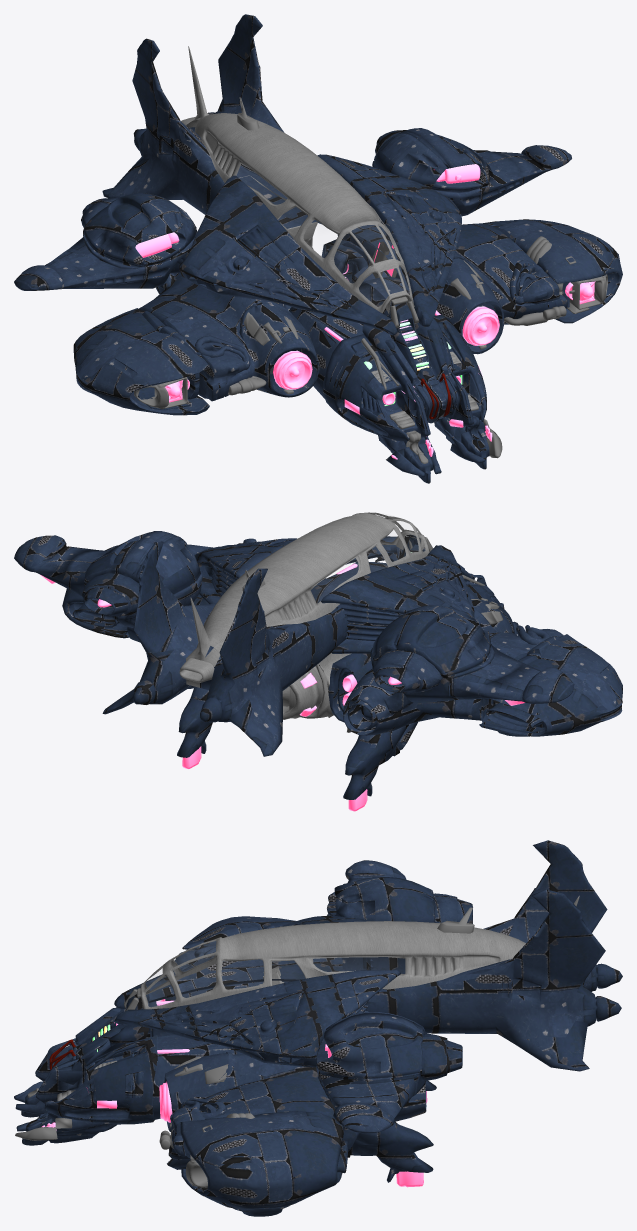
3 views of the same model, one above another, from view 1: azimuth 30°, elevation 25°; view 2: azimuth 150°, elevation 25°; view 3: azimuth 270°, elevation 25° (orthographic). The views are drawn at different scales.
Parts seen in each view (by area): view 1: Alien Spaceship part_006, Alien Spaceship part_019, Alien Spaceship part_045, Alien Spaceship part_084, Alien Spaceship part_027, Alien Spaceship part_067, Alien Spaceship part_060, Alien Spaceship part_024, Alien Spaceship part_095, Alien Spaceship part_062, Alien Spaceship part_004, Alien Spaceship part_112 (+9 smaller); view 2: Alien Spaceship part_027, Alien Spaceship part_095, Alien Spaceship part_045, Alien Spaceship part_062, Alien Spaceship part_060, Alien Spaceship part_019, Alien Spaceship part_112, Alien Spaceship part_084, Alien Spaceship part_067, Alien Spaceship part_033, Alien Spaceship part_063, Alien Spaceship part_004 (+5 smaller); view 3: Alien Spaceship part_112, Alien Spaceship part_045, Alien Spaceship part_004, Alien Spaceship part_067, Alien Spaceship part_006, Alien Spaceship part_062, Alien Spaceship part_024, Alien Spaceship part_095, Alien Spaceship part_027, Alien Spaceship part_019, Alien Spaceship part_086, Alien Spaceship part_016 (+4 smaller).
Boxes of the visible parts, bbox=[...] form: Alien Spaceship part_006: bbox=[323, 301, 489, 483]; Alien Spaceship part_019: bbox=[179, 175, 397, 335]; Alien Spaceship part_045: bbox=[186, 46, 414, 314]; Alien Spaceship part_084: bbox=[138, 272, 319, 401]; Alien Spaceship part_027: bbox=[14, 193, 197, 290]; Alien Spaceship part_067: bbox=[317, 154, 461, 326]; Alien Spaceship part_060: bbox=[73, 308, 209, 415]; Alien Spaceship part_024: bbox=[337, 223, 568, 354]; Alien Spaceship part_095: bbox=[102, 38, 224, 214]; Alien Spaceship part_062: bbox=[372, 128, 571, 216]; Alien Spaceship part_004: bbox=[483, 219, 622, 323]; Alien Spaceship part_112: bbox=[208, 14, 321, 228]; Alien Spaceship part_027: bbox=[370, 605, 574, 703]; Alien Spaceship part_095: bbox=[200, 568, 348, 756]; Alien Spaceship part_045: bbox=[186, 512, 429, 687]; Alien Spaceship part_062: bbox=[14, 531, 202, 627]; Alien Spaceship part_060: bbox=[479, 634, 622, 736]; Alien Spaceship part_019: bbox=[321, 545, 474, 653]; Alien Spaceship part_112: bbox=[102, 541, 289, 714]; Alien Spaceship part_084: bbox=[343, 600, 563, 735]; Alien Spaceship part_067: bbox=[194, 536, 397, 604]; Alien Spaceship part_033: bbox=[343, 722, 417, 799]; Alien Spaceship part_063: bbox=[282, 624, 351, 719]; Alien Spaceship part_004: bbox=[62, 544, 212, 638]; Alien Spaceship part_112: bbox=[365, 889, 621, 1071]; Alien Spaceship part_045: bbox=[140, 895, 579, 1009]; Alien Spaceship part_004: bbox=[179, 1111, 347, 1216]; Alien Spaceship part_067: bbox=[114, 970, 400, 1067]; Alien Spaceship part_006: bbox=[14, 994, 157, 1145]; Alien Spaceship part_062: bbox=[316, 1012, 462, 1133]; Alien Spaceship part_024: bbox=[164, 1052, 426, 1158]; Alien Spaceship part_095: bbox=[342, 840, 622, 991]; Alien Spaceship part_027: bbox=[327, 860, 472, 923]; Alien Spaceship part_019: bbox=[114, 915, 374, 1008]; Alien Spaceship part_086: bbox=[347, 1121, 433, 1182]; Alien Spaceship part_016: bbox=[152, 1035, 242, 1119].
Size of the model in its own units: 2.83 by 1.36 by 2.68.
10 materials, 4 textured.
